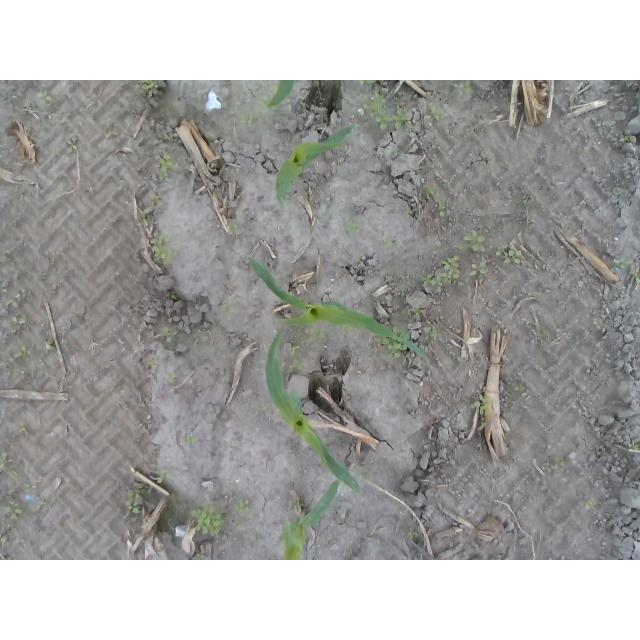Maize: (246, 255, 431, 365), (263, 330, 361, 495), (274, 124, 355, 210), (283, 480, 339, 561), (263, 80, 295, 114)
Weeds: (364, 89, 409, 130), (420, 255, 462, 291), (191, 499, 229, 537), (149, 232, 178, 272), (420, 183, 448, 217), (127, 480, 149, 520), (384, 326, 410, 359), (463, 263, 489, 290), (459, 229, 486, 253), (101, 111, 120, 144), (0, 495, 24, 521), (495, 243, 521, 265), (159, 152, 175, 182), (301, 327, 332, 342), (472, 393, 493, 415), (32, 87, 56, 105), (538, 455, 559, 474), (344, 214, 363, 234), (429, 103, 449, 121), (159, 325, 178, 343), (152, 467, 172, 484), (239, 110, 257, 127), (454, 80, 472, 97), (391, 144, 409, 160), (233, 498, 253, 512), (613, 256, 633, 270), (44, 144, 65, 157), (143, 80, 159, 97), (358, 472, 378, 485), (12, 314, 33, 326), (222, 303, 240, 317), (422, 325, 442, 337), (137, 208, 151, 225), (67, 137, 81, 154), (17, 342, 31, 358), (512, 195, 528, 209), (411, 304, 425, 320), (585, 501, 603, 512), (593, 318, 609, 330), (595, 120, 616, 129), (62, 336, 73, 353), (5, 297, 19, 310), (359, 80, 377, 90), (146, 353, 158, 368), (0, 448, 8, 469), (46, 338, 58, 352), (287, 342, 302, 353), (372, 335, 388, 345), (393, 287, 407, 298), (627, 439, 640, 450), (227, 223, 241, 233), (531, 328, 545, 338), (619, 135, 634, 144), (494, 319, 506, 330), (206, 163, 218, 174), (383, 238, 393, 251), (514, 383, 527, 393), (291, 360, 305, 369), (631, 266, 640, 280), (287, 499, 298, 510), (22, 482, 32, 494), (165, 290, 177, 300), (407, 528, 417, 540), (17, 423, 28, 433), (150, 195, 160, 206), (193, 553, 207, 560), (169, 374, 177, 385), (404, 207, 413, 216), (40, 500, 49, 508), (8, 468, 17, 476), (490, 228, 499, 236), (354, 255, 362, 264), (184, 436, 193, 444), (331, 431, 337, 441), (480, 417, 485, 425), (271, 319, 277, 325), (427, 80, 434, 85), (28, 138, 32, 144)
